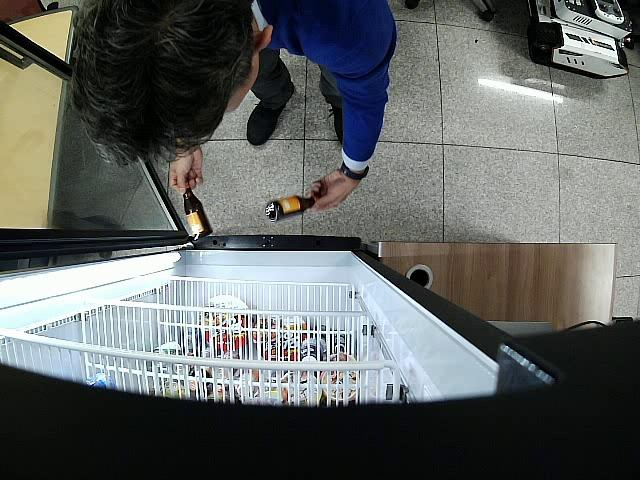00_hand: (312, 173, 361, 208), (171, 147, 206, 193)
17_vita500: (183, 182, 212, 240), (266, 196, 315, 222)
